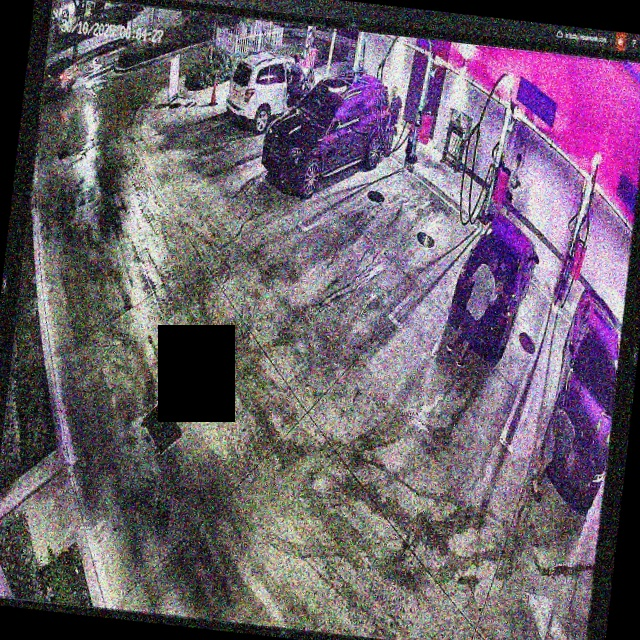Car: (259, 59, 395, 208), (448, 212, 544, 355)
